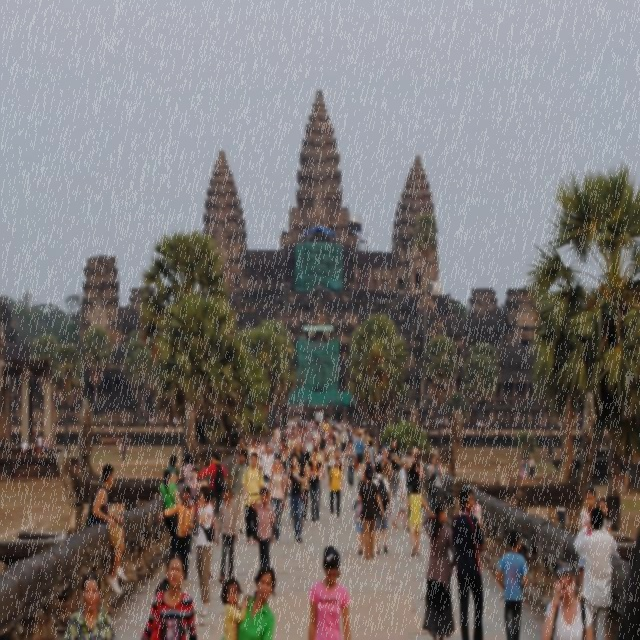pessoa: (572, 504, 618, 640), (83, 462, 128, 596), (450, 486, 487, 640), (421, 500, 461, 640), (138, 550, 198, 640), (540, 560, 594, 640), (307, 544, 352, 640), (221, 564, 277, 640), (62, 570, 120, 640), (494, 528, 530, 640), (156, 485, 194, 586), (194, 484, 216, 616), (575, 485, 599, 603), (357, 463, 385, 559), (451, 501, 484, 579), (215, 486, 239, 584), (240, 452, 265, 545), (218, 574, 253, 640), (192, 480, 215, 580), (198, 450, 228, 526), (407, 479, 435, 557), (158, 468, 183, 554), (250, 487, 276, 568), (286, 452, 308, 544), (272, 417, 370, 437), (372, 462, 392, 554), (267, 456, 287, 544), (230, 450, 248, 534), (392, 455, 411, 529), (421, 416, 490, 436), (307, 446, 322, 525), (327, 456, 344, 522), (310, 440, 326, 506), (330, 446, 346, 506), (289, 437, 309, 483), (427, 453, 442, 512), (407, 446, 424, 494), (260, 441, 275, 492), (355, 480, 365, 556), (388, 438, 401, 496), (379, 445, 394, 493), (302, 451, 312, 522), (344, 438, 358, 488), (360, 448, 378, 484), (597, 496, 613, 536), (148, 416, 180, 432), (354, 432, 366, 471), (182, 453, 196, 485), (188, 467, 199, 505), (326, 437, 336, 476), (238, 436, 250, 468), (248, 438, 260, 470), (279, 443, 290, 477), (188, 526, 197, 566), (165, 454, 180, 477), (356, 452, 366, 482), (338, 427, 349, 452), (269, 437, 282, 458), (28, 432, 38, 456), (556, 506, 566, 530), (118, 473, 124, 512), (258, 436, 267, 462), (154, 578, 168, 594), (16, 441, 29, 458), (367, 440, 377, 462), (528, 453, 536, 479), (41, 435, 50, 458), (318, 437, 326, 460), (520, 454, 527, 479), (120, 441, 128, 462), (575, 448, 582, 472), (302, 437, 314, 451), (302, 396, 312, 412), (623, 462, 630, 483), (287, 437, 295, 455), (116, 441, 122, 462), (556, 418, 562, 436), (542, 419, 548, 436), (245, 434, 252, 448), (36, 434, 42, 448), (328, 396, 332, 417), (333, 436, 341, 446), (362, 437, 370, 447), (538, 418, 544, 430), (341, 406, 347, 418), (603, 428, 610, 436), (432, 448, 438, 455), (100, 421, 104, 430), (282, 437, 287, 444), (98, 468, 102, 476), (326, 438, 330, 446), (352, 437, 355, 447), (352, 411, 355, 418), (326, 454, 328, 464), (339, 446, 342, 452), (436, 455, 439, 460), (310, 451, 313, 456), (303, 450, 306, 454)
